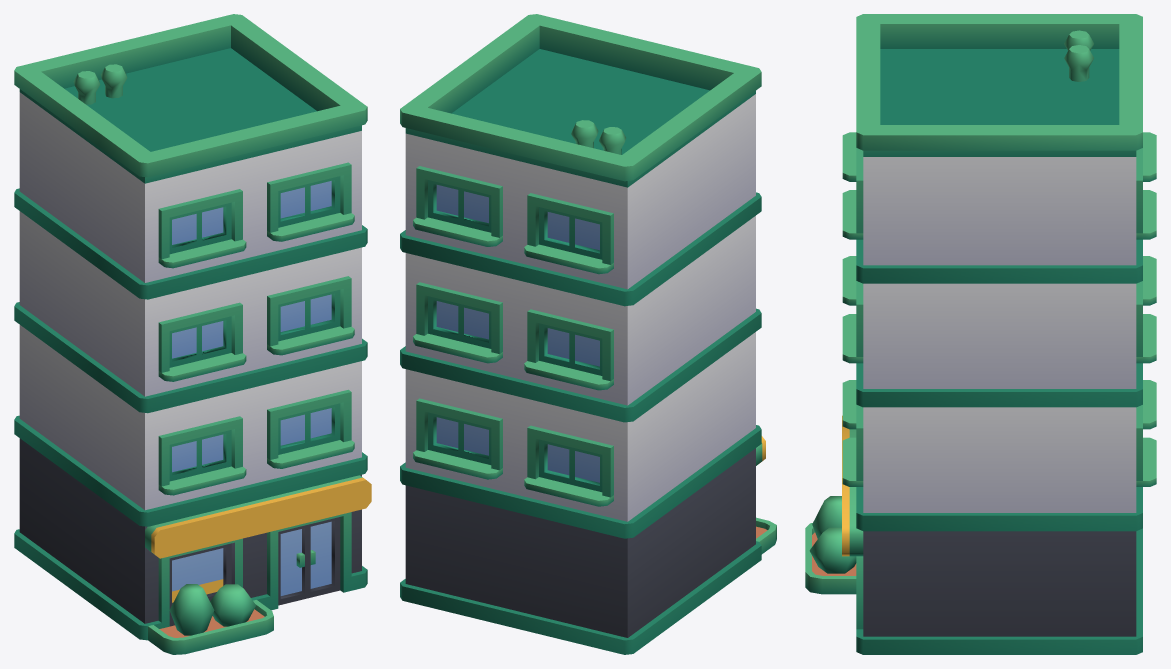
The model's file is house_level3.glb.
The picture shows the model from 3 angles, left to right: view 1: azimuth 30°, elevation 25°; view 2: azimuth 150°, elevation 25°; view 3: azimuth 270°, elevation 25°; orthographic projection. The views are drawn at different scales.
Parts seen in each view (by area): view 1: building-f; view 2: building-f; view 3: building-f.
Part boxes in pixels (x1,y1,x2,y2): building-f: [14, 14, 371, 654]; building-f: [400, 14, 776, 654]; building-f: [805, 14, 1156, 654].
Size of the model in its own units: 1.26 by 2.54 by 1.55.
1 material, 1 textured.
